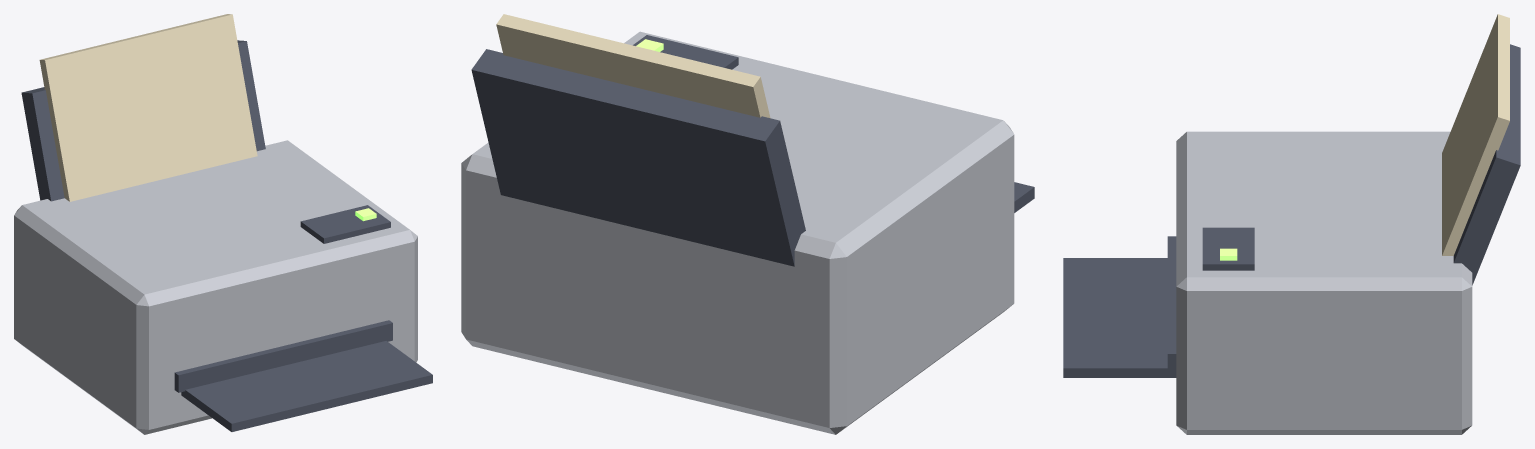
Rendered from printer.glb.
3 views of the same model, side by side, from view 1: azimuth 30°, elevation 25°; view 2: azimuth 150°, elevation 25°; view 3: azimuth 270°, elevation 25° (orthographic). The views are drawn at different scales.
Parts seen in each view (by area): view 1: Printer body, Tray paper, Output tray, Printer slot, Paper tray, Printer panel; view 2: Printer body, Paper tray, Tray paper, Printer panel; view 3: Printer body, Output tray, Tray paper, Paper tray, Printer panel, Printer slot.
Boxes of the visible parts, x1,y1,x2,y2 form: Printer body: (14, 140, 417, 434); Tray paper: (39, 14, 257, 201); Output tray: (181, 341, 432, 431); Printer slot: (174, 320, 392, 392); Paper tray: (21, 40, 265, 201); Printer panel: (300, 205, 390, 243); Printer body: (461, 31, 1014, 434); Paper tray: (471, 49, 805, 266); Tray paper: (496, 14, 770, 118); Printer panel: (633, 35, 738, 69); Printer body: (1176, 131, 1472, 434); Output tray: (1063, 258, 1176, 377); Tray paper: (1442, 14, 1509, 255); Paper tray: (1453, 44, 1520, 285); Printer panel: (1202, 227, 1254, 270); Printer slot: (1167, 236, 1176, 373).
Size of the model in its own units: 0.42 by 0.3761 by 0.5257.
